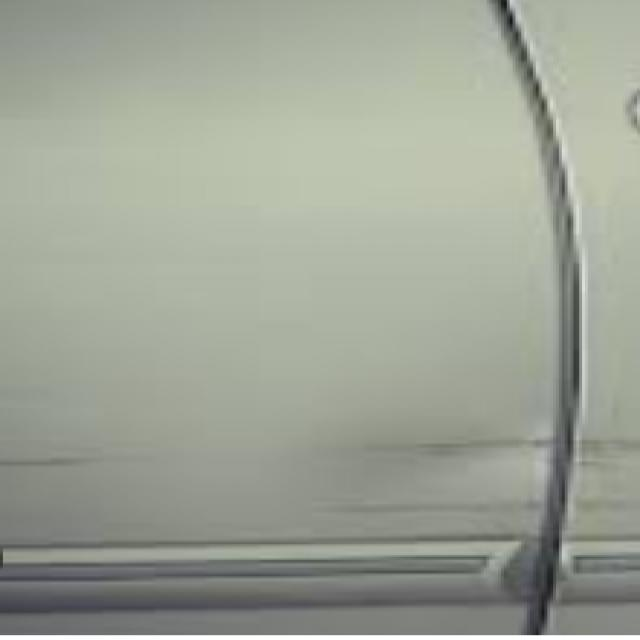dents: (332, 401, 620, 572)
